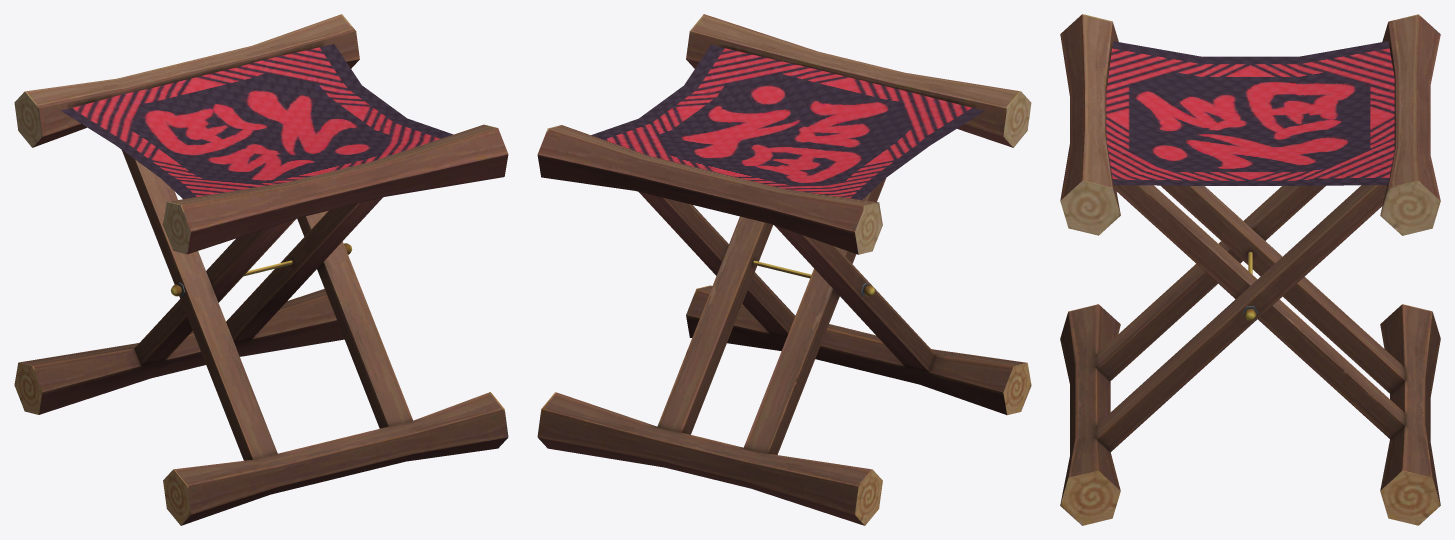
File: furn_xn2018_chair_002.gltf
3 renders of one model, left to right at view 1: azimuth 30°, elevation 25°; view 2: azimuth 150°, elevation 25°; view 3: azimuth 270°, elevation 25°, orthographic. The views are drawn at different scales.
Parts seen in each view (by area): view 1: xn2018_chair_002; view 2: xn2018_chair_002; view 3: xn2018_chair_002.
Part boxes in pixels (box(x1,y1,x2,y2)): xn2018_chair_002: box(14, 14, 508, 525); xn2018_chair_002: box(537, 14, 1031, 525); xn2018_chair_002: box(1060, 14, 1440, 525).
Size of the model in its own units: 0.2092 by 0.2019 by 0.2019.
1 material, 1 textured.
